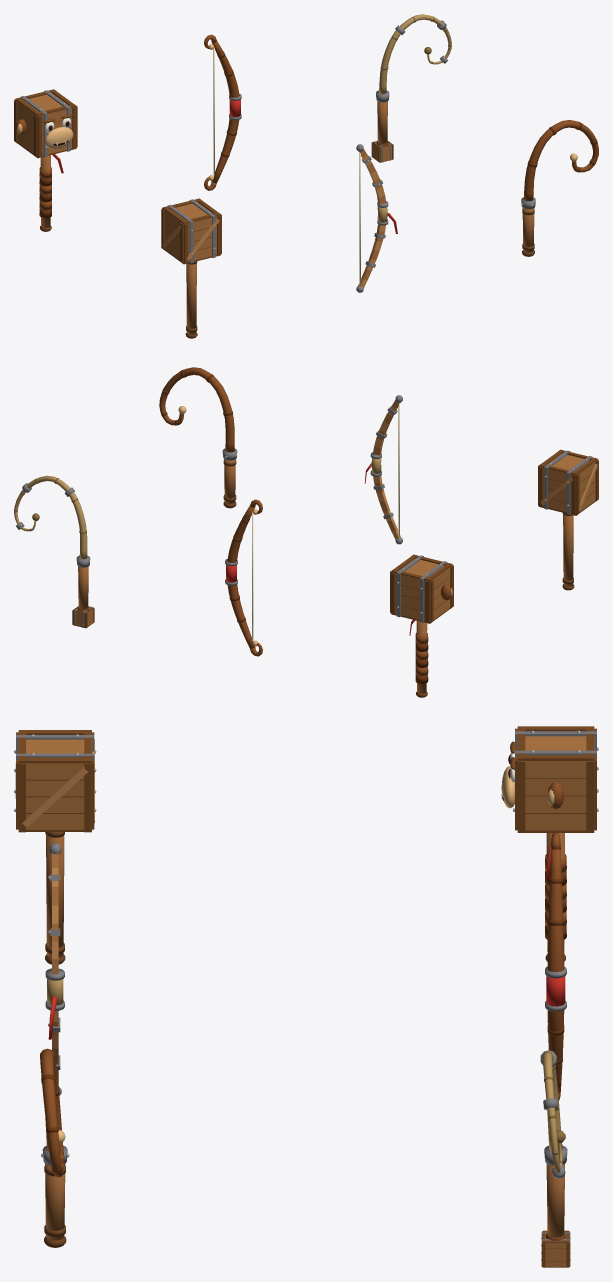
The model's file is equipements-moon.glb.
The picture shows the model from 3 angles, top to bottom: view 1: azimuth 30°, elevation 25°; view 2: azimuth 150°, elevation 25°; view 3: azimuth 270°, elevation 25°; orthographic projection. The views are drawn at different scales.
Parts seen in each view (by area): view 1: caisse, caisse.001, queue, arc, laniere, manche, museau, manche.003, manche.001; view 2: caisse.001, caisse, queue, arc, laniere, manche, manche.003, manche.001; view 3: caisse.001, caisse, arc, queue, manche, laniere, manche.001, manche.003.
Boxes of the visible parts, x1,y1,x2,y2 form: caisse: (164, 202, 216, 262); caisse.001: (17, 93, 72, 155); queue: (523, 120, 598, 201); arc: (211, 40, 239, 183); laniere: (379, 14, 451, 94); manche: (186, 263, 196, 334); museau: (45, 127, 73, 148); manche.003: (377, 101, 387, 143); manche.001: (522, 208, 534, 252); caisse.001: (395, 558, 450, 621); caisse: (543, 453, 595, 514); queue: (159, 367, 234, 452); arc: (227, 505, 255, 648); laniere: (14, 475, 87, 559); manche: (563, 514, 573, 586); manche.003: (78, 566, 88, 609); manche.001: (224, 459, 235, 503); caisse.001: (525, 736, 594, 830); caisse: (26, 739, 91, 829); arc: (547, 849, 564, 1094); queue: (40, 1049, 64, 1177); manche: (46, 835, 64, 957); laniere: (542, 1051, 562, 1172); manche.001: (45, 1164, 65, 1240); manche.003: (546, 1164, 564, 1237).
Bounding box in the file's own units: 5.18 × 1.88 × 3.51.
